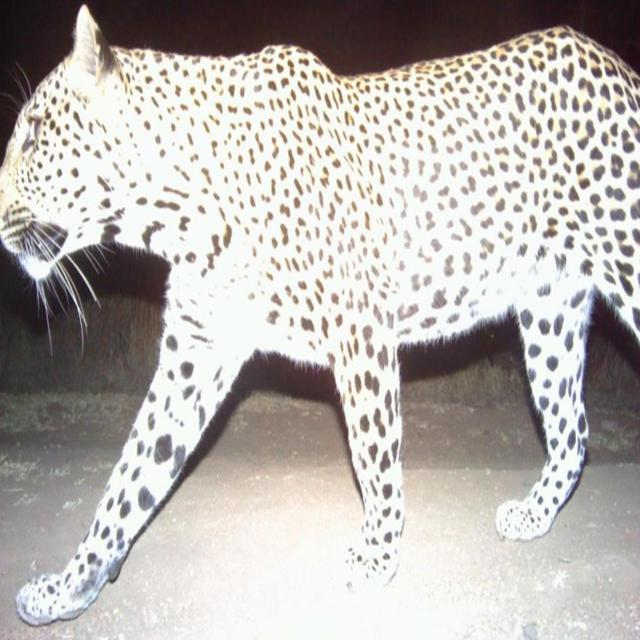Leopard: (0, 1, 640, 616)
